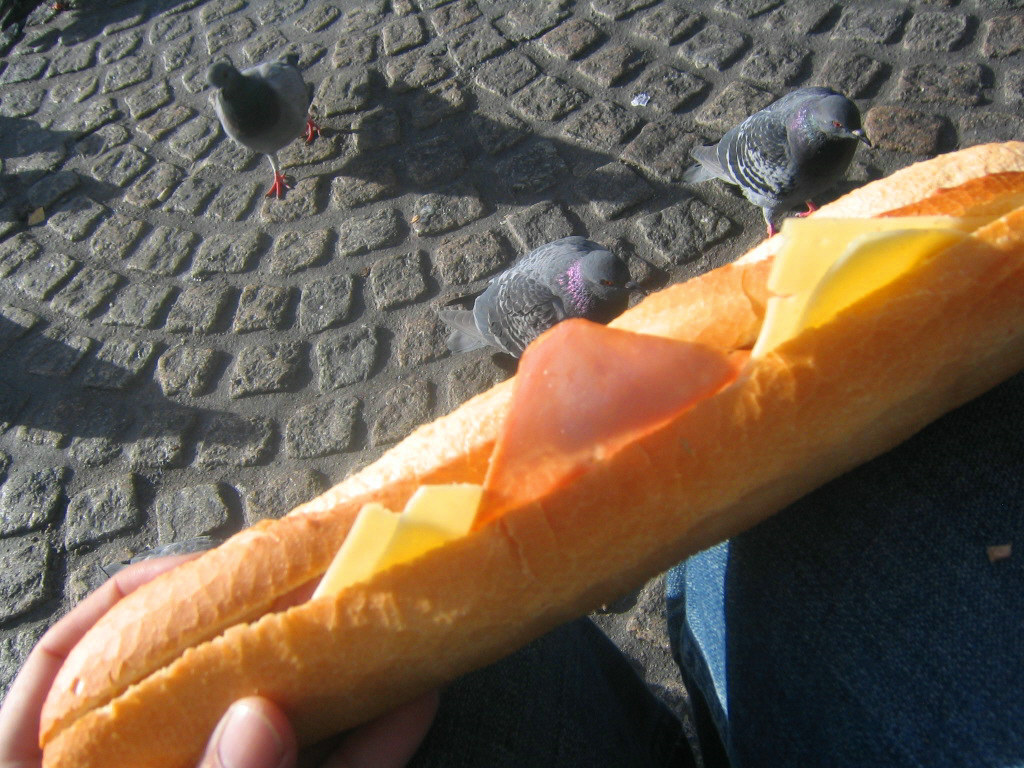hot_dog: (5, 133, 1018, 768)
